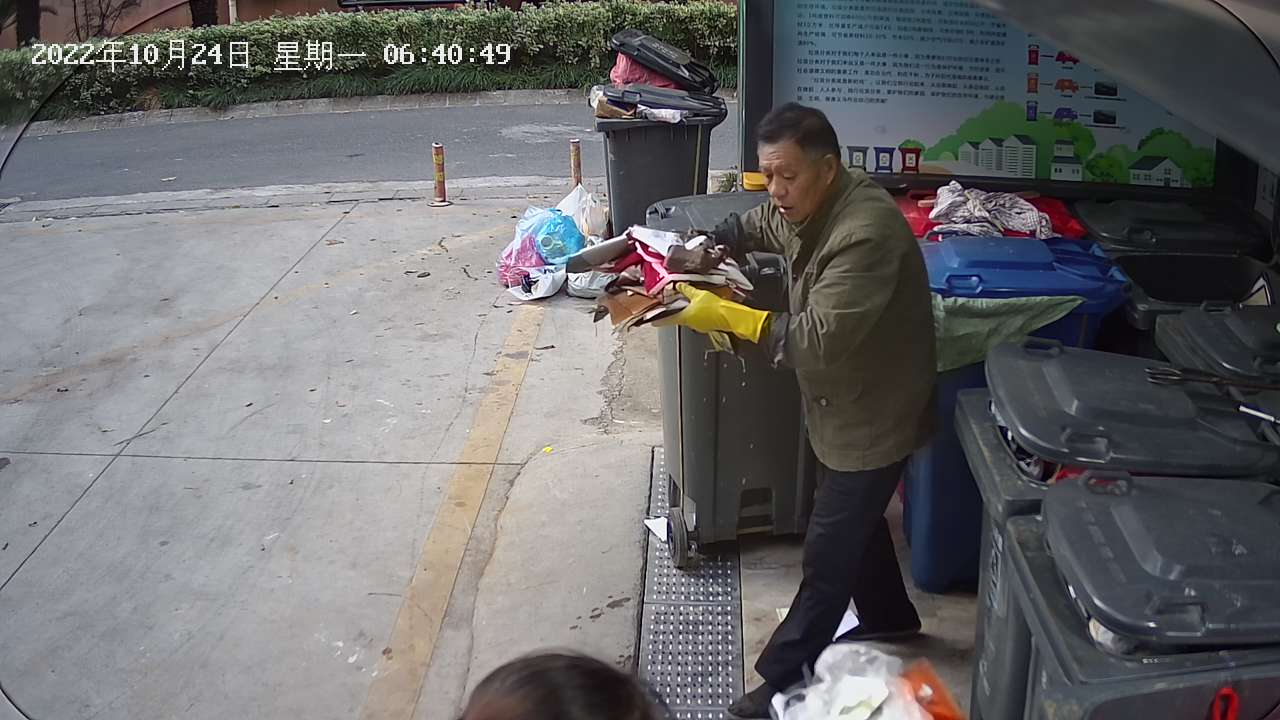garbage-bag: (762, 632, 964, 720), (491, 204, 590, 291)
person: (639, 97, 944, 720)
zhizhipin: (562, 218, 755, 340)
